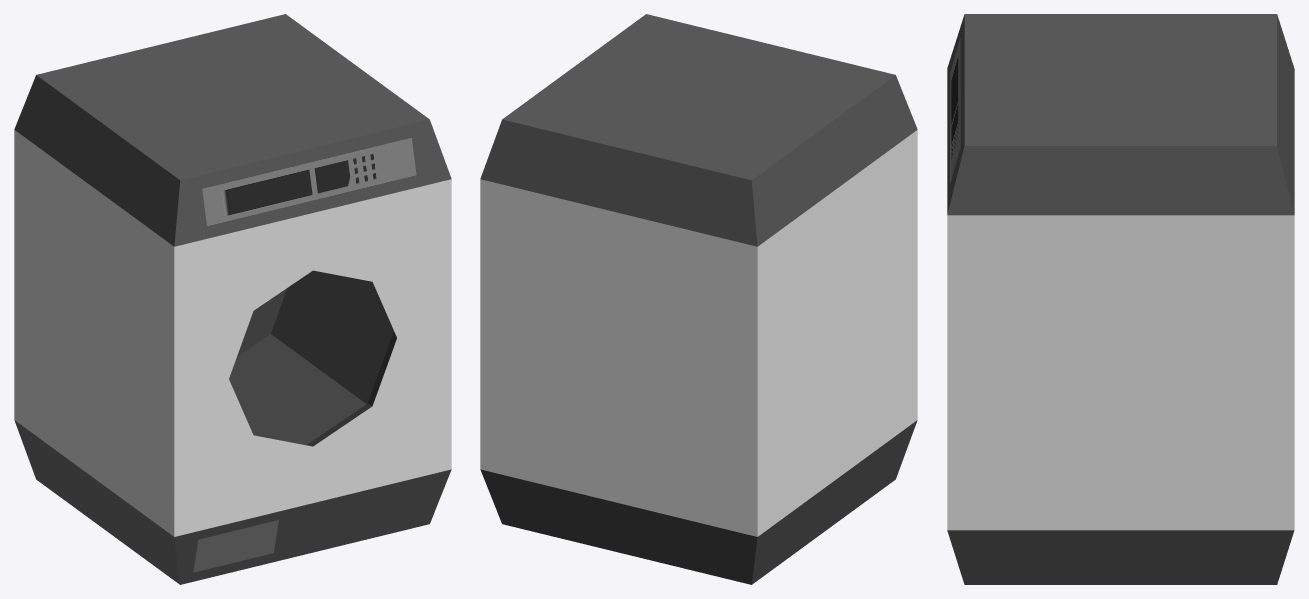
Rendered from Itr_Washingmachine_Body_03.FBX.
The picture shows the model from 3 angles, left to right: view 1: azimuth 30°, elevation 25°; view 2: azimuth 150°, elevation 25°; view 3: azimuth 270°, elevation 25°; orthographic projection. The views are drawn at different scales.
Parts seen in each view (by area): view 1: Itr_Washingmachine_Body_03; view 2: Itr_Washingmachine_Body_03; view 3: Itr_Washingmachine_Body_03.
Part boxes in pixels (x1,y1,x2,y2): Itr_Washingmachine_Body_03: (14, 14, 451, 584); Itr_Washingmachine_Body_03: (480, 14, 917, 584); Itr_Washingmachine_Body_03: (947, 14, 1294, 584).
Size of the model in its own units: 39.37 by 54.89 by 39.45.
